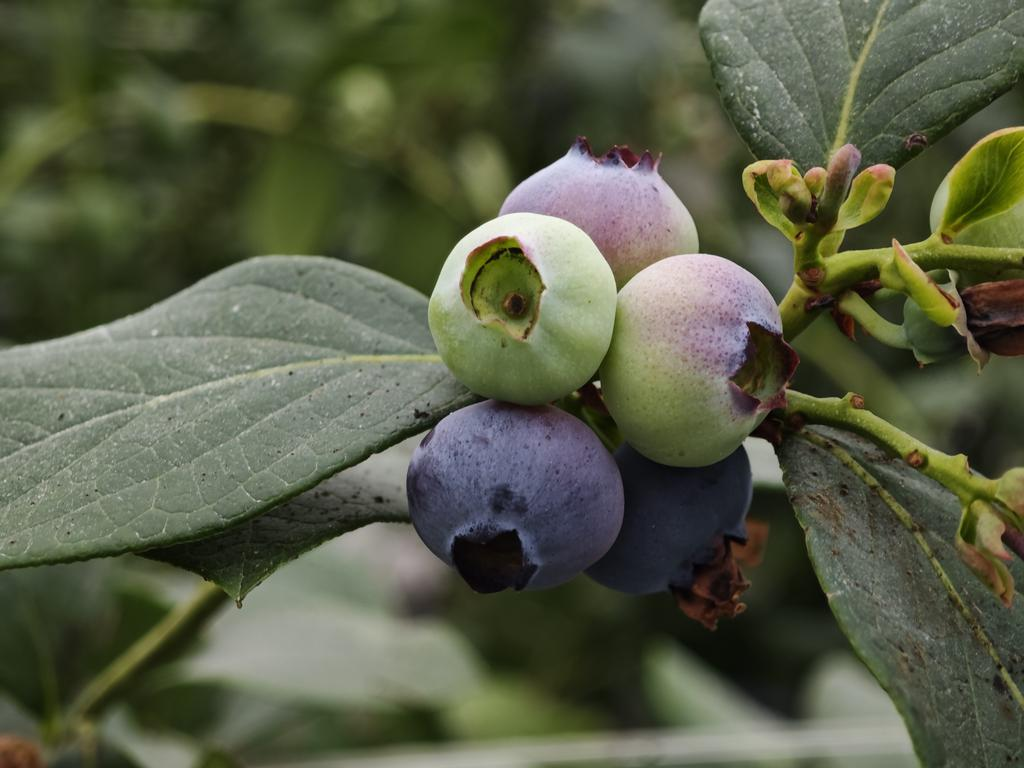RipeBlueBerry: (403, 399, 628, 599)
UnripeBlueBerry: (612, 249, 791, 472), (425, 209, 622, 405)
